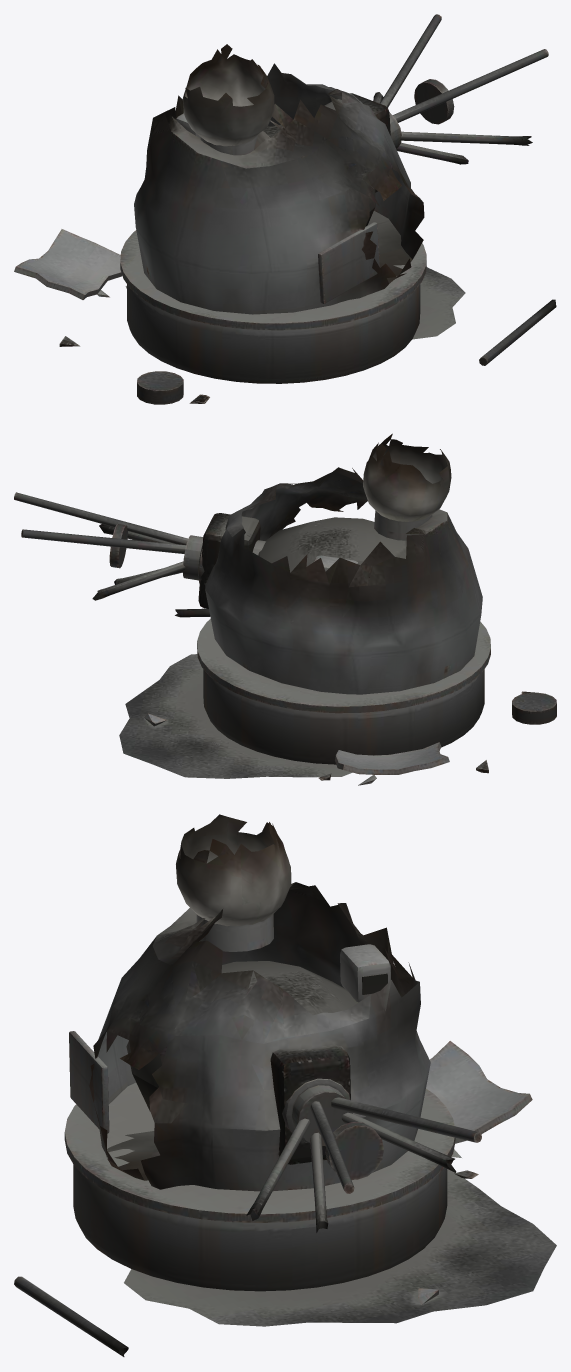
File: fh_battle_e_lev_zsu_broken.glb
The picture shows the model from 3 angles, top to bottom: view 1: azimuth 30°, elevation 25°; view 2: azimuth 150°, elevation 25°; view 3: azimuth 270°, elevation 25°; orthographic projection. The views are drawn at different scales.
Parts seen in each view (by area): view 1: zsu; view 2: zsu; view 3: zsu.
Part boxes in pixels (x1=…): zsu: x1=14, y1=14, x2=556, y2=404; zsu: x1=14, y1=433, x2=556, y2=785; zsu: x1=14, y1=814, x2=556, y2=1356.
Bounding box in the file's own units: 0.8587 × 0.4819 × 0.643.
1 material, 1 textured.
